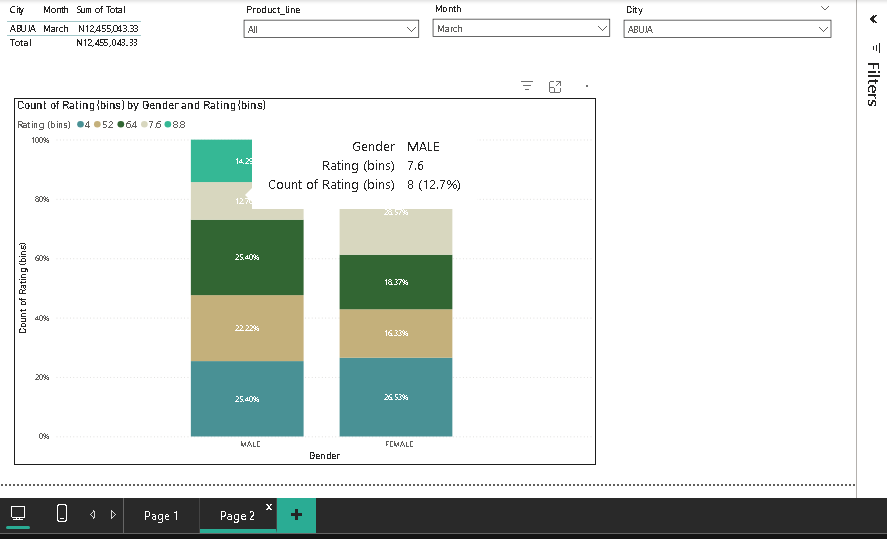

What the dashboard file says about the page in this screenshot:
{"tool":"powerbi","page":{"name":"Page 2","canvas":[1280,720],"ordinal":1},"visuals":[{"type":"tableEx","fields":{"Values":["SuperMarket_Standardized.City","SuperMarket_Standardized.Date.Variation.Date Hierarchy.Month","Sum(SuperMarket_Standardized.Total)"]},"box":[10.4,0,348.3,290.2],"z":0},{"type":"hundredPercentStackedColumnChart","fields":{"Category":["SuperMarket_Standardized.Gender"],"Y":["CountNonNull(SuperMarket_Standardized.Rating (bins))"],"Series":["SuperMarket_Standardized.Rating (bins)"]},"box":[26.8,145.9,866.2,546.2],"z":1000},{"type":"slicer","title":"Average Rating by Gender","fields":{"Values":["SuperMarket_Standardized.Product_line"]},"box":[358.7,1.5,281.3,81.9],"z":2000},{"type":"slicer","fields":{"Values":["SuperMarket_Standardized.Date.Variation.Date Hierarchy.Month"]},"box":[640,0,284.3,86.3],"z":3000},{"type":"slicer","fields":{"Values":["SuperMarket_Standardized.City"]},"box":[924.3,1.5,328.9,81.9],"z":4000}]}

Visuals, with their boxes in screenshot pixels (x1, y1, x2, y2):
tableEx - SuperMarket_Standardized.City x SuperMarket_Standardized.Date.Variation.Date Hierarchy.Month: rect(11, 37, 241, 228)
hundredPercentStackedColumnChart - SuperMarket_Standardized.Gender x CountNonNull(SuperMarket_Standardized.Rating (bins)): rect(22, 133, 593, 493)
"Average Rating by Gender" slicer: rect(241, 38, 426, 92)
slicer - SuperMarket_Standardized.Date.Variation.Date Hierarchy.Month: rect(426, 37, 614, 94)
slicer - SuperMarket_Standardized.City: rect(614, 38, 831, 92)
